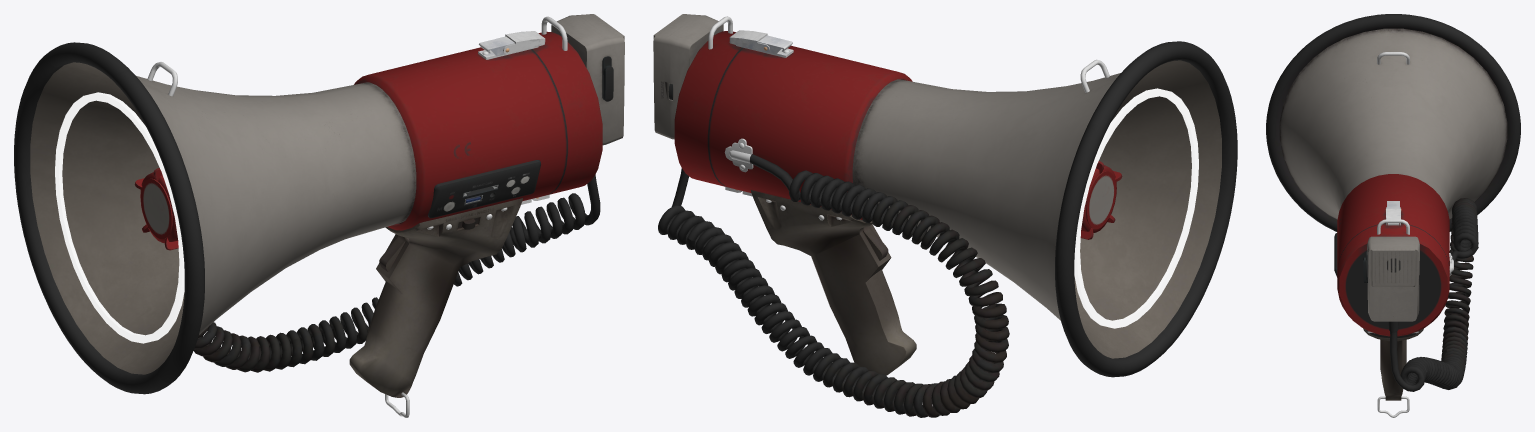
The model's file is Megaphone-Modified.gltf.
The picture shows the model from 3 angles, left to right: view 1: azimuth 30°, elevation 25°; view 2: azimuth 150°, elevation 25°; view 3: azimuth 270°, elevation 25°; orthographic projection. The views are drawn at different scales.
Parts seen in each view (by area): view 1: Megaphone_01, Megaphone_01.001; view 2: Megaphone_01, Megaphone_01.001; view 3: Megaphone_01.
Boxes of the visible parts, x1,y1,x2,y2 form: Megaphone_01: (14,14,624,417); Megaphone_01.001: (55,92,184,343); Megaphone_01: (653,14,1237,417); Megaphone_01.001: (1074,88,1198,328); Megaphone_01: (1266,14,1520,417).
Bounding box in the file's own units: 0.3707 × 0.3001 × 0.2285.
Materials: 2 (1 with a texture image).
